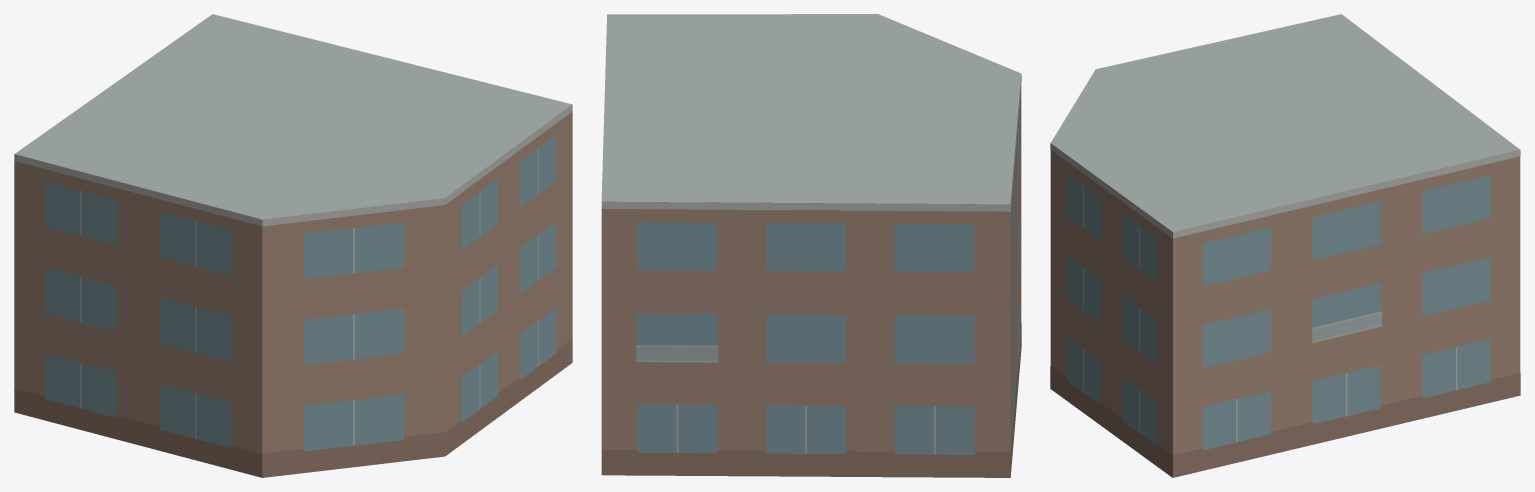
The model's file is survey-upis-32658721.glb.
3 views of the same model, side by side, from view 1: azimuth 30°, elevation 25°; view 2: azimuth 150°, elevation 25°; view 3: azimuth 270°, elevation 25° (orthographic). The views are drawn at different scales.
Parts seen in each view (by area): view 1: survey-upis-32658721.tmp; view 2: survey-upis-32658721.tmp; view 3: survey-upis-32658721.tmp.
Part boxes in pixels (box(x1,y1,x2,y2)): survey-upis-32658721.tmp: box(14, 14, 572, 477); survey-upis-32658721.tmp: box(601, 14, 1021, 477); survey-upis-32658721.tmp: box(1050, 14, 1520, 477).
Bounding box in the file's own units: 17.51 × 9.2 × 15.95.
